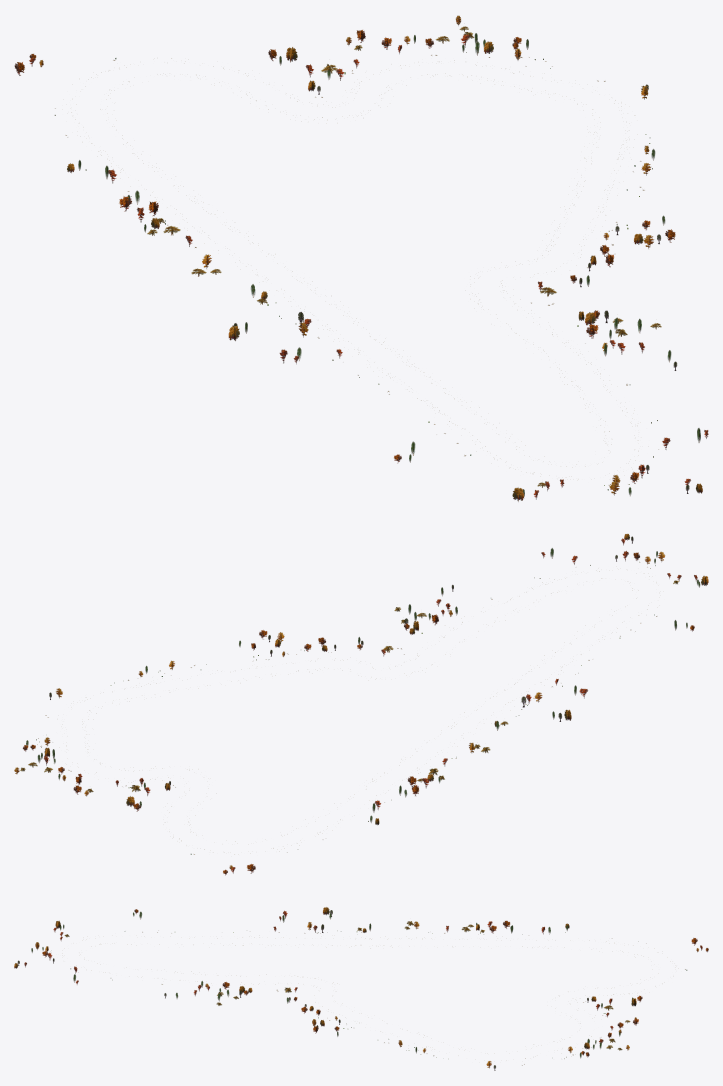
File: la_chutana_vegetation.glb
3 renders of one model, top to bottom at view 1: azimuth 30°, elevation 25°; view 2: azimuth 150°, elevation 25°; view 3: azimuth 270°, elevation 25°, orthographic. The views are drawn at different scales.
Bounding box in the file's own units: 598 × 15.47 × 1110.
18 materials, 18 textured.
